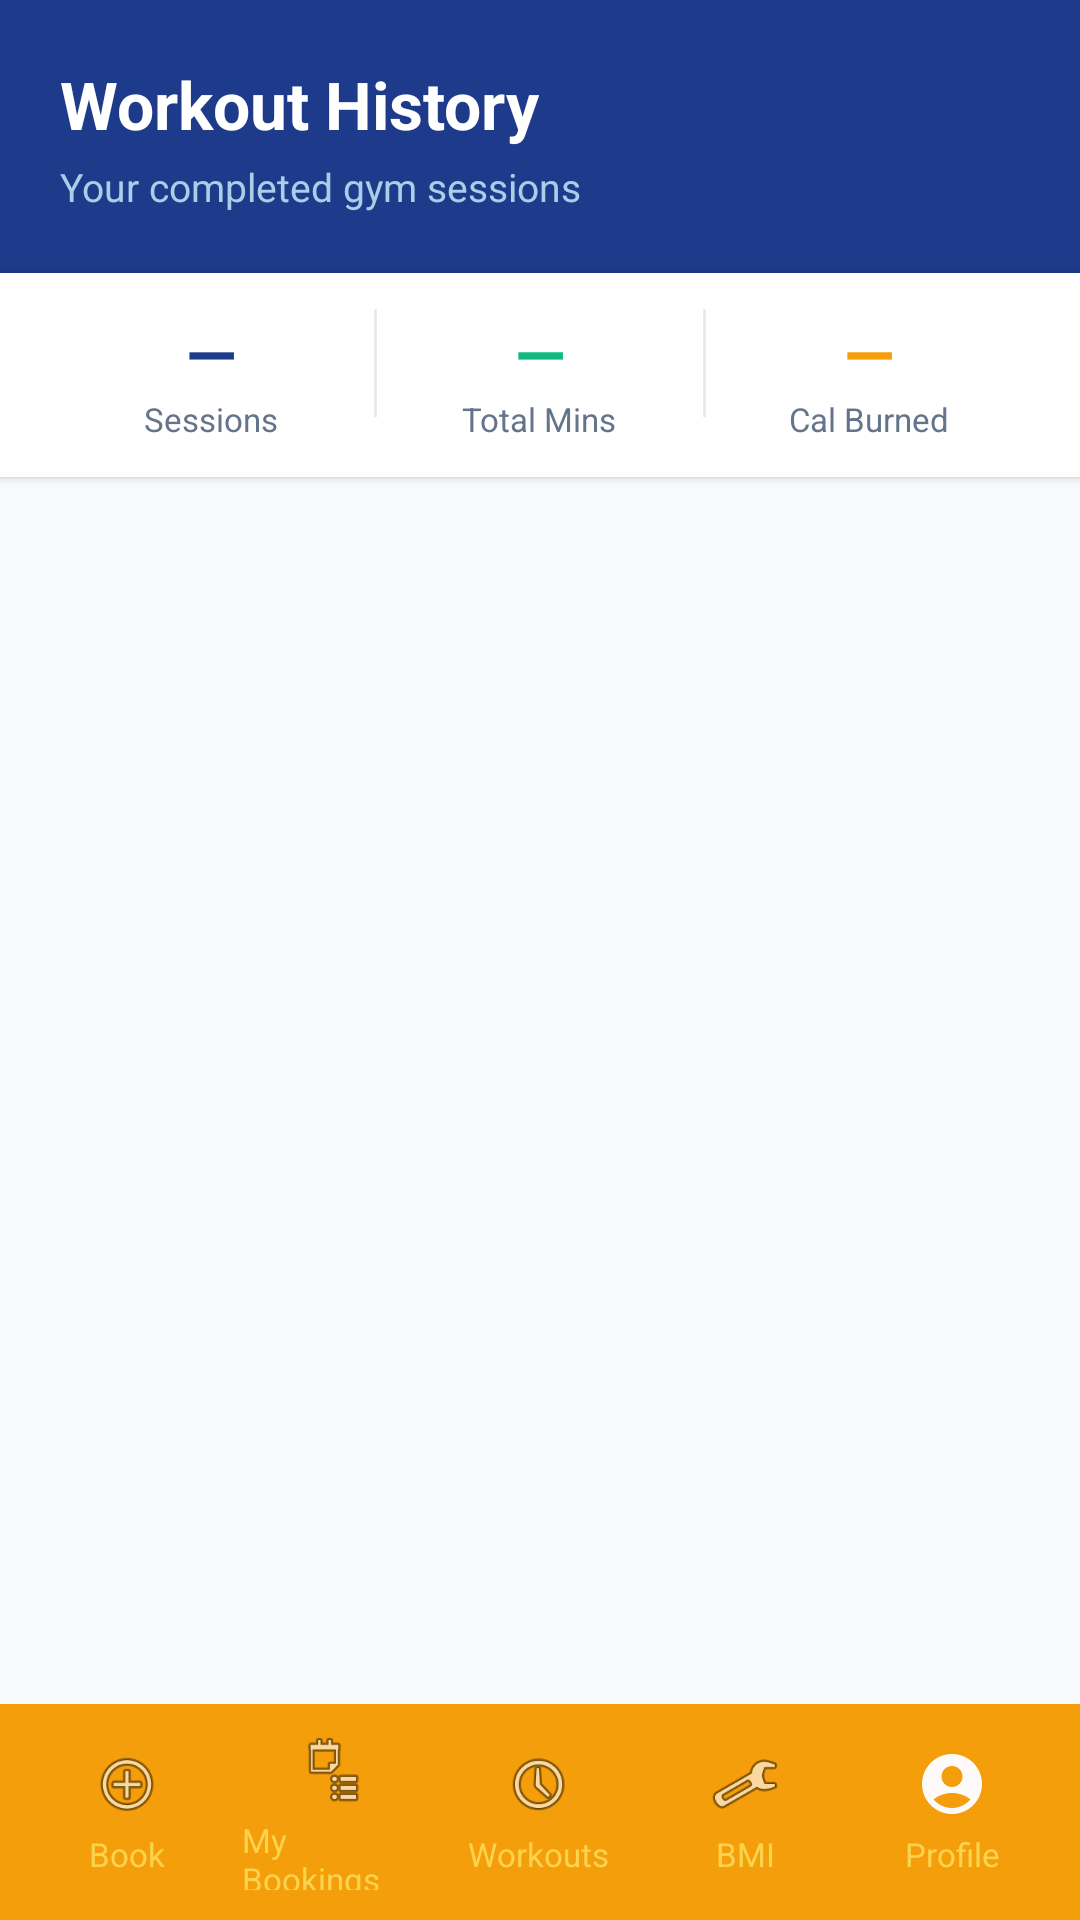

Icon bounding boxes for this 1080px×1920px phone screenshot, format (x1, y1, x2, y2):
account circle: (922, 1754, 982, 1814)
add: (100, 1758, 154, 1811)
agenda: (308, 1738, 359, 1802)
manage: (712, 1759, 777, 1809)
recent history: (512, 1758, 565, 1810)
